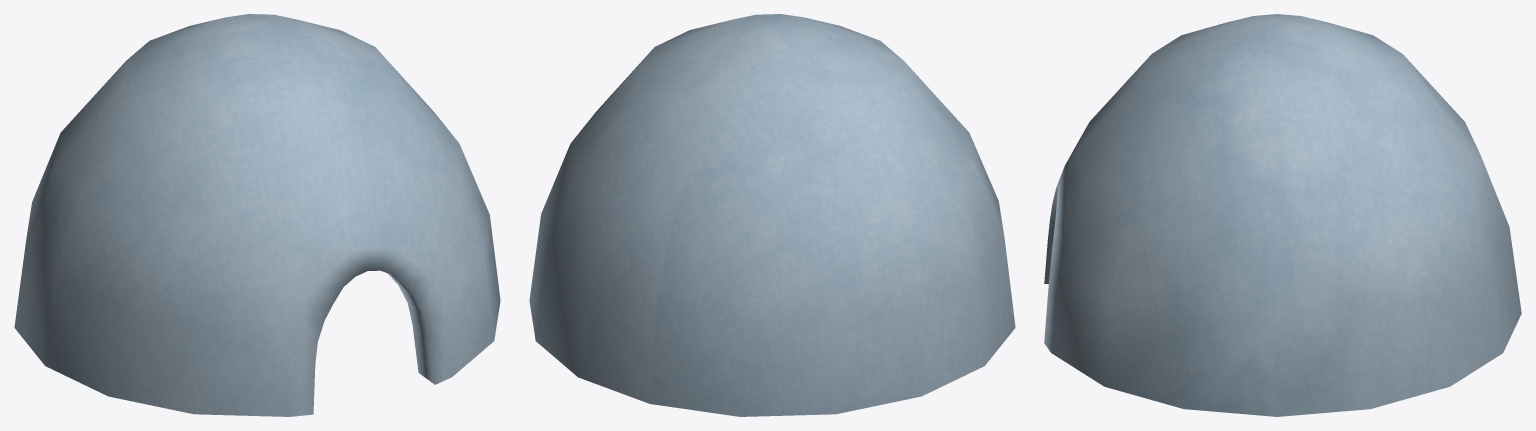
Rendered from sb_obj_outdoor050_SnowShelter_col.fbx.
3 renders of one model, left to right at view 1: azimuth 30°, elevation 25°; view 2: azimuth 150°, elevation 25°; view 3: azimuth 270°, elevation 25°, orthographic.
Visible parts, largest first — view 1: sb_obj_outdoor050_SnowShelter_col; view 2: sb_obj_outdoor050_SnowShelter_col; view 3: sb_obj_outdoor050_SnowShelter_col.
Boxes of the visible parts, box(x1,y1,x2,y2) form: sb_obj_outdoor050_SnowShelter_col: box(14, 14, 500, 416); sb_obj_outdoor050_SnowShelter_col: box(529, 14, 1015, 416); sb_obj_outdoor050_SnowShelter_col: box(1044, 14, 1521, 416).
Bounding box in the file's own units: 2.39 × 1.54 × 2.33.
